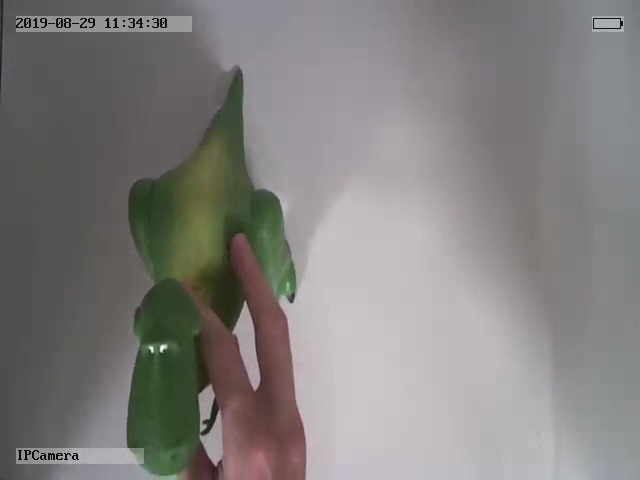rex: (126, 66, 298, 476)
